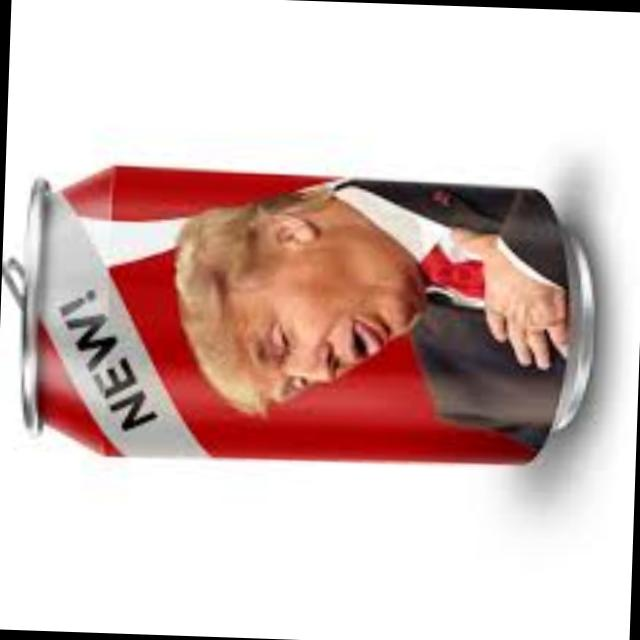metal: (1, 170, 588, 467)
